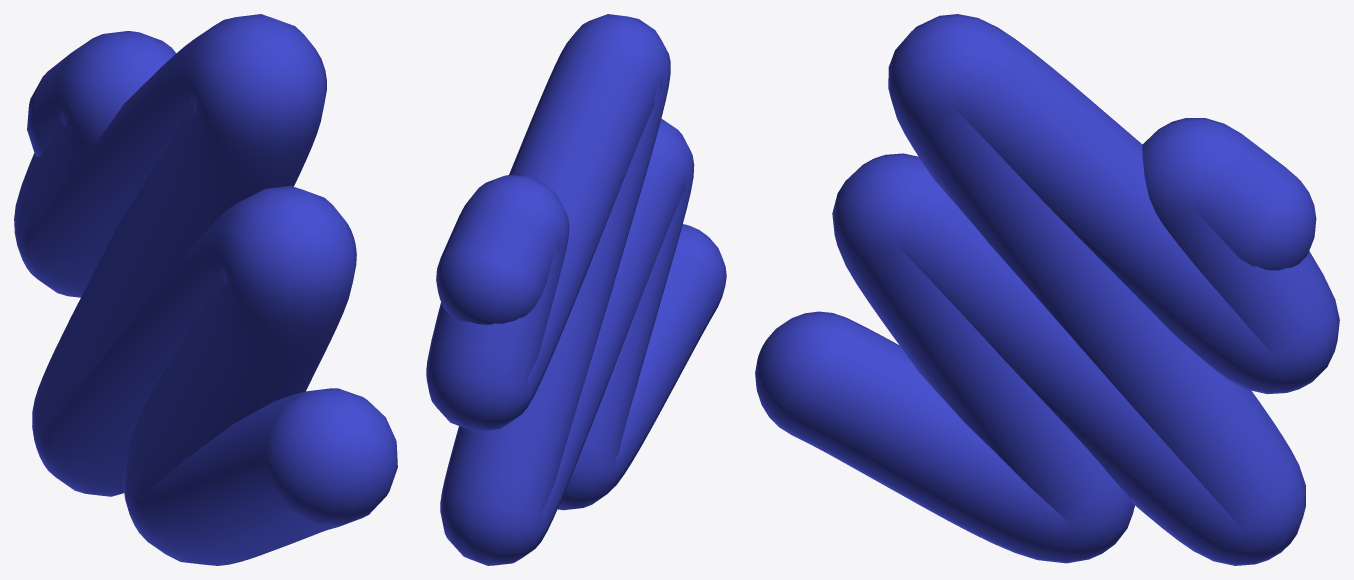
The model's file is annotation.fbx.
The picture shows the model from 3 angles, left to right: view 1: azimuth 30°, elevation 25°; view 2: azimuth 150°, elevation 25°; view 3: azimuth 270°, elevation 25°; orthographic projection. The views are drawn at different scales.
Parts seen in each view (by area): view 1: root; view 2: root; view 3: root.
Part boxes in pixels (x1,y1,x2,y2): root: (14, 14, 397, 565); root: (426, 14, 726, 565); root: (755, 14, 1339, 565).
Size of the model in its own units: 0.0593 by 0.2741 by 0.2691.
